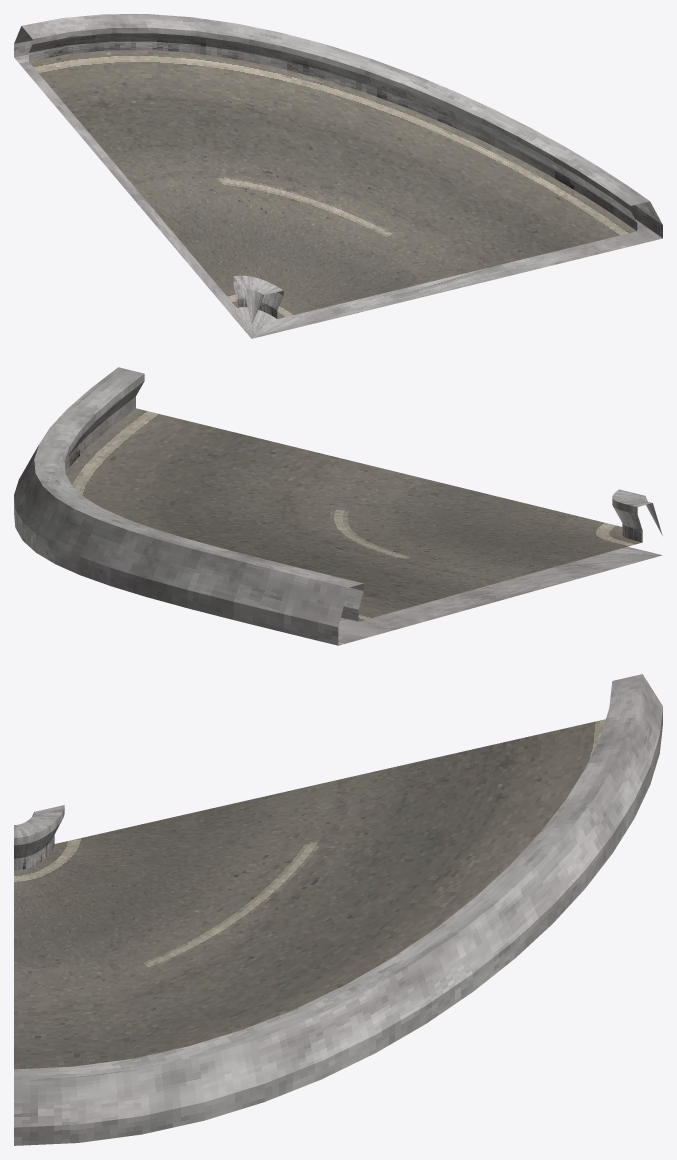
File: turn-left1x1.glb
The picture shows the model from 3 angles, top to bottom: view 1: azimuth 30°, elevation 25°; view 2: azimuth 150°, elevation 25°; view 3: azimuth 270°, elevation 25°; orthographic projection. The views are drawn at different scales.
Parts seen in each view (by area): view 1: road-Turn-Flat-HalfBankedLeft-Even-Left-Size1; view 2: road-Turn-Flat-HalfBankedLeft-Even-Left-Size1; view 3: road-Turn-Flat-HalfBankedLeft-Even-Left-Size1.
Boxes of the visible parts, x1,y1,x2,y2 form: road-Turn-Flat-HalfBankedLeft-Even-Left-Size1: (14, 14, 662, 338); road-Turn-Flat-HalfBankedLeft-Even-Left-Size1: (14, 367, 662, 645); road-Turn-Flat-HalfBankedLeft-Even-Left-Size1: (14, 674, 662, 1145).
Bounding box in the file's own units: 1 × 0.3359 × 1.
Materials: 2 (2 with a texture image).
